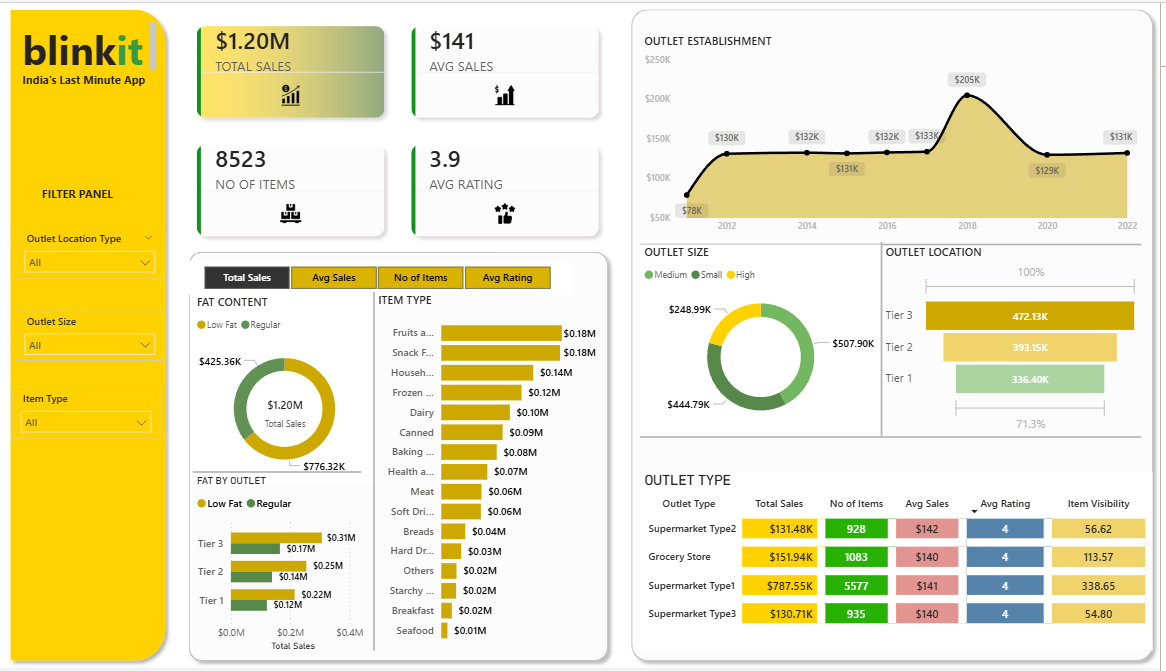

Layout of this report page (visuals, bound fields, positions):
{"tool":"powerbi","page":{"name":"Page 1","canvas":[1400,800],"ordinal":0},"visuals":[{"type":"shape","box":[10.5,0,204.1,800],"z":0},{"type":"textbox","box":[28.5,19.5,171.1,70.5],"z":1000},{"type":"textbox","box":[262.7,0,351.2,130.6],"z":2000},{"type":"textbox","box":[0,79.5,216.1,28.5],"z":3000},{"type":"cardVisual","fields":{"Data":["BlinkIT Grocery Data.Total Sales","BlinkIT Grocery Data.Avg Sales","BlinkIT Grocery Data.No of Items","BlinkIT Grocery Data.Avg Rating"]},"box":[214.6,0,541.8,310.7],"z":4000},{"type":"shape","box":[225.1,291.2,520.8,508.8],"z":4001},{"type":"donutChart","title":"FAT CONTENT","fields":{"Category":["BlinkIT Grocery Data.Item Fat Content"],"Y":["BlinkIT Grocery Data.Total Sales"]},"box":[238.6,351.2,220.6,229.6],"z":4002},{"type":"slicer","fields":{"Values":["METRICS.METRICS"]},"box":[226.6,310.7,465.3,40.5],"z":4003},{"type":"card","fields":{"Values":["BlinkIT Grocery Data.Total Sales"]},"box":[304.7,466.8,90.1,52.5],"z":4004},{"type":"clusteredBarChart","title":"FAT BY OUTLET","fields":{"Y":["BlinkIT Grocery Data.Total Sales"],"Category":["BlinkIT Grocery Data.Outlet Location Type"],"Series":["BlinkIT Grocery Data.Item Fat Content"]},"box":[238.6,567.3,217.6,217.6],"z":4005},{"type":"shape","box":[238.6,519.3,202.6,90.1],"z":4006},{"type":"shape","box":[441.3,348.2,30,430.7],"z":4007},{"type":"barChart","title":"ITEM TYPE","fields":{"Category":["BlinkIT Grocery Data.Item Type"],"Y":["BlinkIT Grocery Data.Total Sales"]},"box":[456.3,348.2,271.7,430.7],"z":4008},{"type":"shape","box":[756.4,0,643.9,800],"z":4010},{"type":"lineChart","title":"OUTLET ESTABLISHMENT","fields":{"Category":["BlinkIT Grocery Data.Outlet Establishment Year"],"Y":["BlinkIT Grocery Data.Total Sales"]},"box":[775.9,37.5,601.8,249.1],"z":4011},{"type":"shape","box":[775.9,246.1,601.8,90.1],"z":4012},{"type":"donutChart","title":"OUTLET SIZE","fields":{"Y":["BlinkIT Grocery Data.Total Sales"],"Category":["BlinkIT Grocery Data.Outlet Size"]},"box":[775.9,291.2,289.7,225.1],"z":4013},{"type":"shape","box":[1050.6,288.2,30,232.6],"z":4014},{"type":"funnel","title":"OUTLET LOCATION","fields":{"Y":["Sum(BlinkIT Grocery Data.Sales)"],"Category":["BlinkIT Grocery Data.Outlet Location Type"]},"box":[1065.6,291.2,313.7,229.6],"z":4015},{"type":"shape","box":[775.9,477.3,601.8,90.1],"z":4016},{"type":"pivotTable","title":"OUTLET TYPE","fields":{"Rows":["BlinkIT Grocery Data.Outlet Type"],"Values":["BlinkIT Grocery Data.Total Sales","BlinkIT Grocery Data.No of Items","BlinkIT Grocery Data.Avg Sales","BlinkIT Grocery Data.Avg Rating","Sum(BlinkIT Grocery Data.Item Visibility)"]},"box":[775.9,564.3,615.4,214.6],"z":4017},{"type":"slicer","fields":{"Values":["BlinkIT Grocery Data.Outlet Location Type"]},"box":[25.5,270.2,178.6,61.5],"z":4018},{"type":"slicer","fields":{"Values":["BlinkIT Grocery Data.Outlet Size"]},"box":[25.5,369.2,178.6,61.5],"z":4019},{"type":"slicer","fields":{"Values":["BlinkIT Grocery Data.Item Type"]},"box":[21,462.3,178.6,61.5],"z":4020},{"type":"textbox","box":[52.5,216.1,115.6,30],"z":4021}]}

Visuals, with their boxes in screenshot pixels (x1, y1, x2, y2), scaled from the page's 1400x800 canvas onto the 1166x671 screenshot:
shape: Rect(9, 0, 179, 670)
textbox: Rect(24, 16, 166, 75)
textbox: Rect(219, 0, 511, 110)
textbox: Rect(0, 67, 180, 91)
cardVisual - BlinkIT Grocery Data.Total Sales x BlinkIT Grocery Data.Avg Sales: Rect(179, 0, 630, 261)
shape: Rect(187, 244, 621, 670)
"FAT CONTENT" donutChart: Rect(199, 295, 382, 487)
slicer - METRICS.METRICS: Rect(189, 261, 576, 295)
card - BlinkIT Grocery Data.Total Sales: Rect(254, 392, 329, 436)
"FAT BY OUTLET" clusteredBarChart: Rect(199, 476, 380, 658)
shape: Rect(199, 436, 367, 511)
shape: Rect(368, 292, 393, 653)
"ITEM TYPE" barChart: Rect(380, 292, 606, 653)
shape: Rect(630, 0, 1165, 670)
"OUTLET ESTABLISHMENT" lineChart: Rect(646, 31, 1147, 240)
shape: Rect(646, 206, 1147, 282)
"OUTLET SIZE" donutChart: Rect(646, 244, 887, 433)
shape: Rect(875, 242, 900, 437)
"OUTLET LOCATION" funnel: Rect(887, 244, 1149, 437)
shape: Rect(646, 400, 1147, 476)
"OUTLET TYPE" pivotTable: Rect(646, 473, 1159, 653)
slicer - BlinkIT Grocery Data.Outlet Location Type: Rect(21, 227, 170, 278)
slicer - BlinkIT Grocery Data.Outlet Size: Rect(21, 310, 170, 361)
slicer - BlinkIT Grocery Data.Item Type: Rect(17, 388, 166, 439)
textbox: Rect(44, 181, 140, 206)
